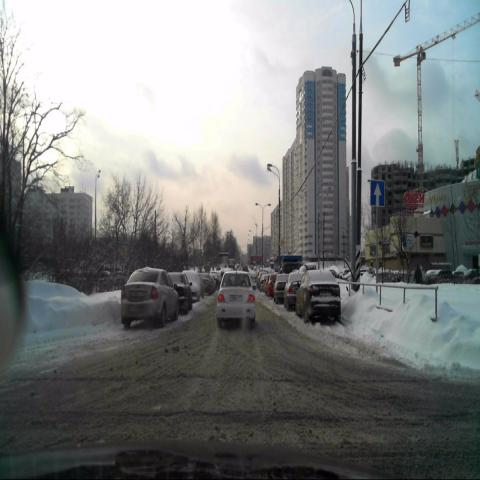5_5: (370, 179, 386, 207)
